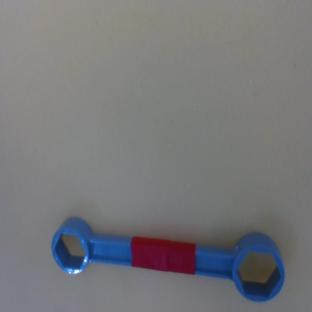part_3_good: (48, 216, 288, 303)
